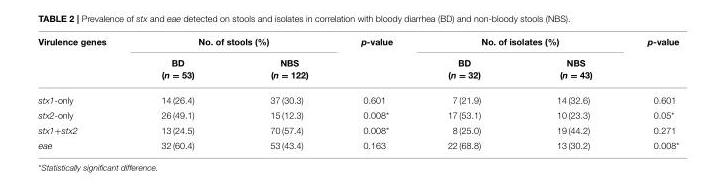table: (37, 37, 678, 149)
table column: (231, 37, 333, 149), (518, 37, 619, 149), (419, 37, 518, 149), (133, 37, 231, 149), (37, 37, 133, 149), (333, 37, 419, 149), (619, 37, 678, 149)
table column header: (37, 37, 678, 87)
table row: (37, 52, 678, 87), (37, 87, 678, 107), (37, 37, 678, 52), (37, 107, 678, 122), (37, 122, 678, 137), (37, 137, 678, 149)
table spanning cell: (37, 37, 133, 87), (333, 37, 419, 87), (133, 37, 333, 52), (419, 37, 619, 52), (619, 37, 678, 87)
